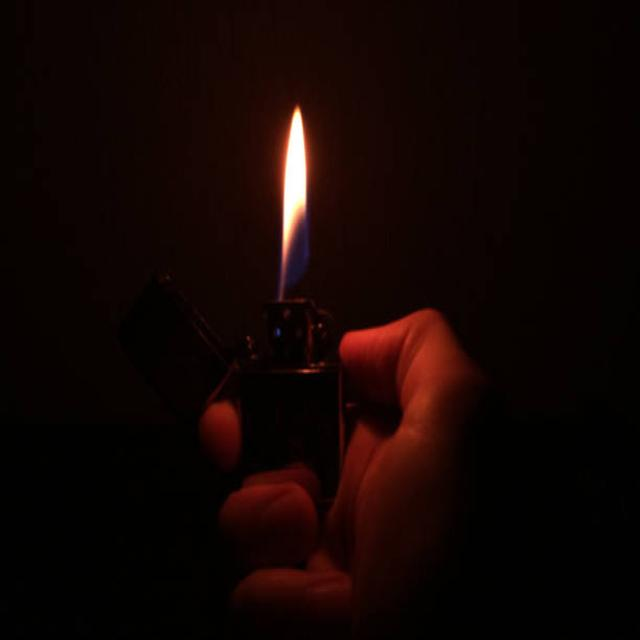fire: (283, 105, 307, 301)
